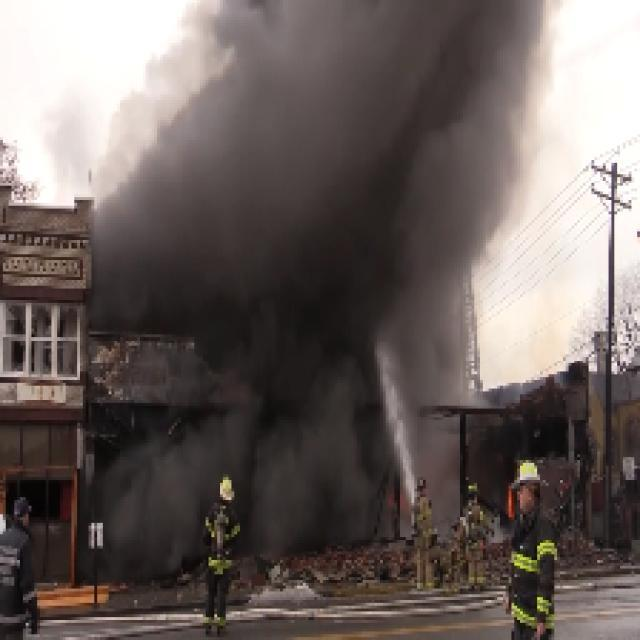Smoke: (92, 252, 372, 566), (251, 0, 514, 242)
